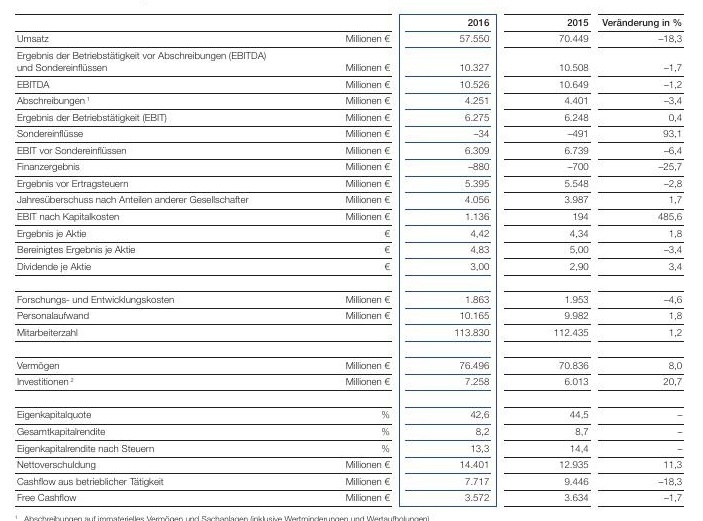table: (0, 0, 703, 521)
